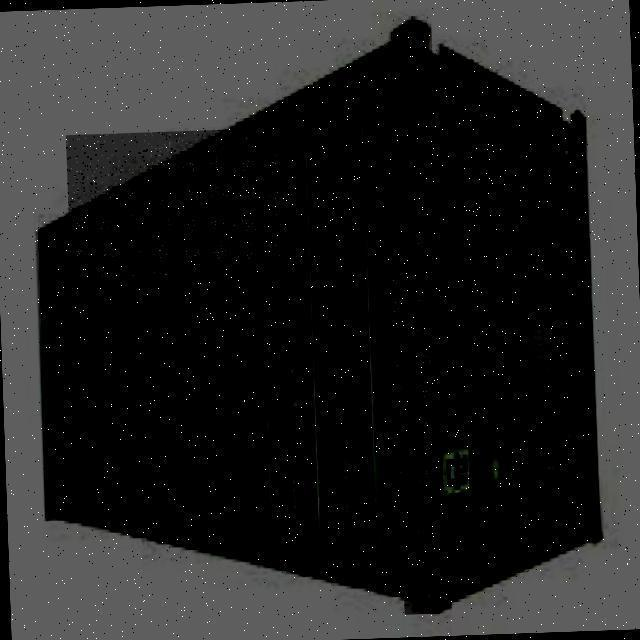rust: (67, 129, 283, 279), (392, 226, 441, 615)
